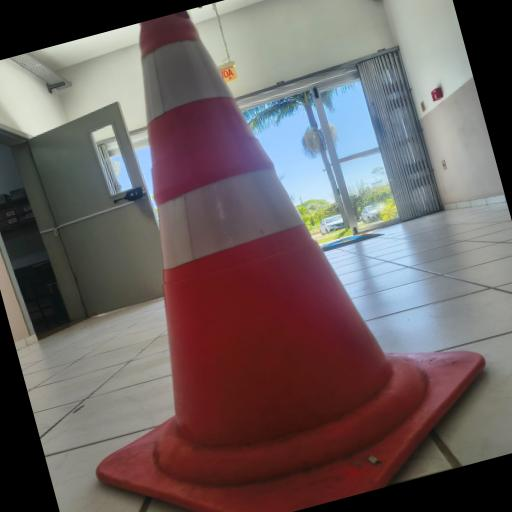cone: (72, 0, 392, 441)
